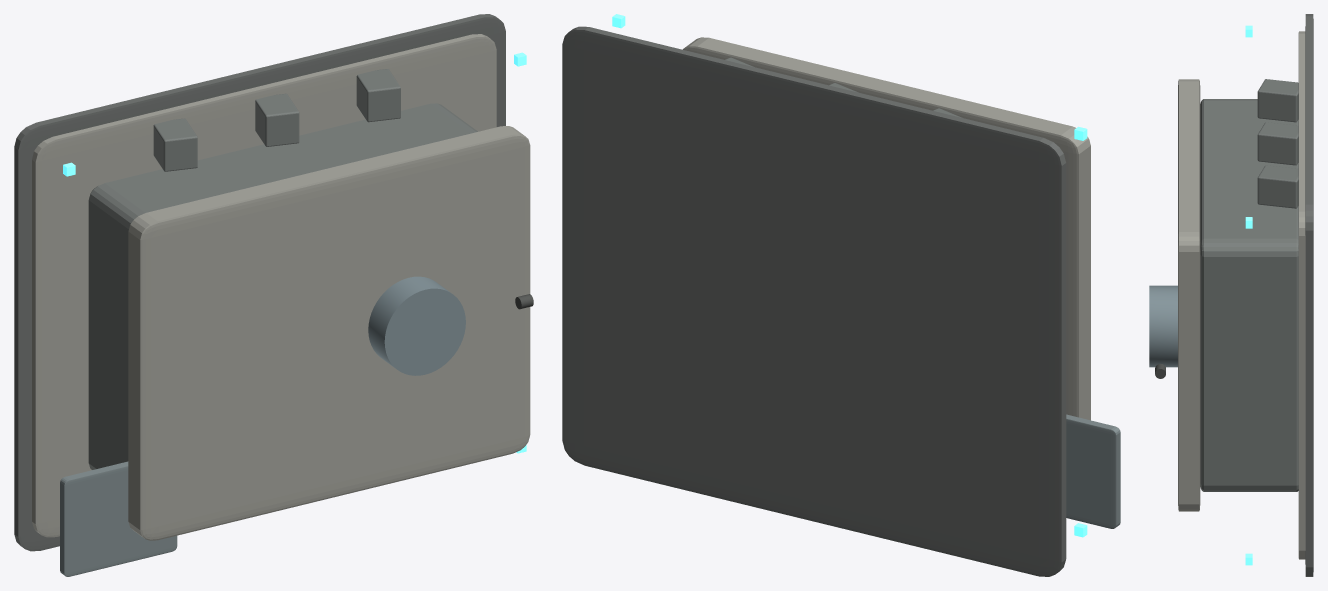
The model's file is b-35-bunker-lod2.glb.
The picture shows the model from 3 angles, left to right: view 1: azimuth 30°, elevation 25°; view 2: azimuth 150°, elevation 25°; view 3: azimuth 270°, elevation 25°; orthographic projection. The views are drawn at different scales.
Parts seen in each view (by area): view 1: bunker_roof, foundation_inner_pad, bunker_main, foundation, checkpoint_roof, small_turret, dragon_tooth_0, dragon_tooth_-2, dragon_tooth_2; view 2: foundation, bunker_roof, checkpoint_roof; view 3: bunker_main, bunker_roof, foundation, foundation_inner_pad, small_turret, dragon_tooth_-2, dragon_tooth_2, dragon_tooth_0.
Boxes of the visible parts, box(x1,y1,x2,y2) form: bunker_roof: box(128, 126, 530, 540); foundation_inner_pad: box(32, 34, 496, 537); bunker_main: box(88, 103, 477, 469); foundation: box(14, 14, 505, 551); checkpoint_roof: box(60, 461, 177, 576); small_turret: box(368, 276, 465, 375); dragon_tooth_0: box(255, 93, 299, 146); dragon_tooth_-2: box(153, 118, 197, 171); dragon_tooth_2: box(356, 69, 400, 122); foundation: box(562, 26, 1066, 576); bunker_roof: box(683, 37, 1090, 420); checkpoint_roof: box(1066, 414, 1120, 528); bunker_main: box(1200, 99, 1298, 491); bunker_roof: box(1178, 79, 1200, 511); foundation: box(1305, 14, 1313, 576); foundation_inner_pad: box(1298, 31, 1305, 559); small_turret: box(1149, 285, 1177, 367); dragon_tooth_-2: box(1257, 79, 1298, 122); dragon_tooth_2: box(1257, 165, 1298, 208); dragon_tooth_0: box(1257, 122, 1298, 165).
Size of what is drawn, in the model's own units: 12.09 by 10 by 4.03.
